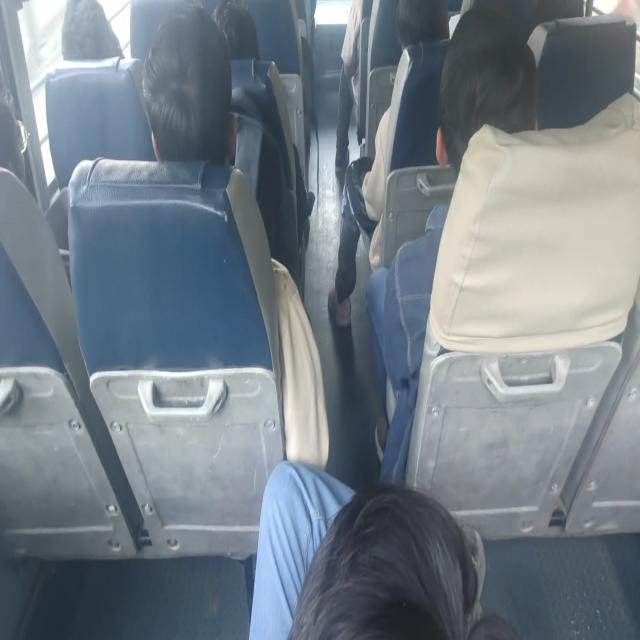person: (297, 474, 474, 640), (426, 19, 537, 194), (138, 39, 237, 186), (56, 0, 123, 59), (197, 0, 265, 56), (0, 82, 39, 176), (396, 0, 453, 62), (526, 0, 577, 40)
